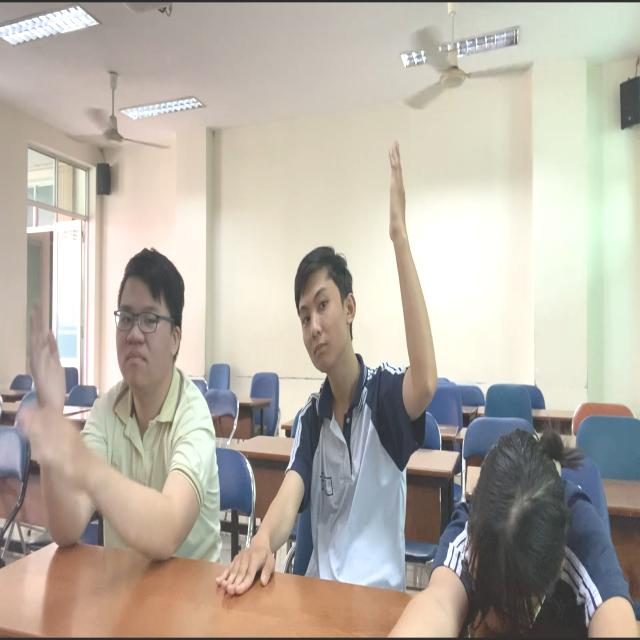raise_hand: (258, 140, 440, 595), (24, 228, 216, 578)
sleep: (416, 426, 640, 640)
